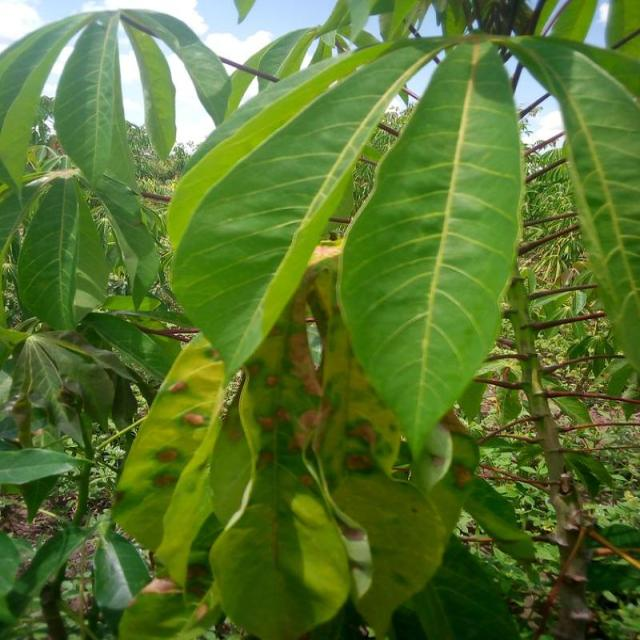cassava leaf: (165, 33, 448, 379), (335, 36, 523, 466)
